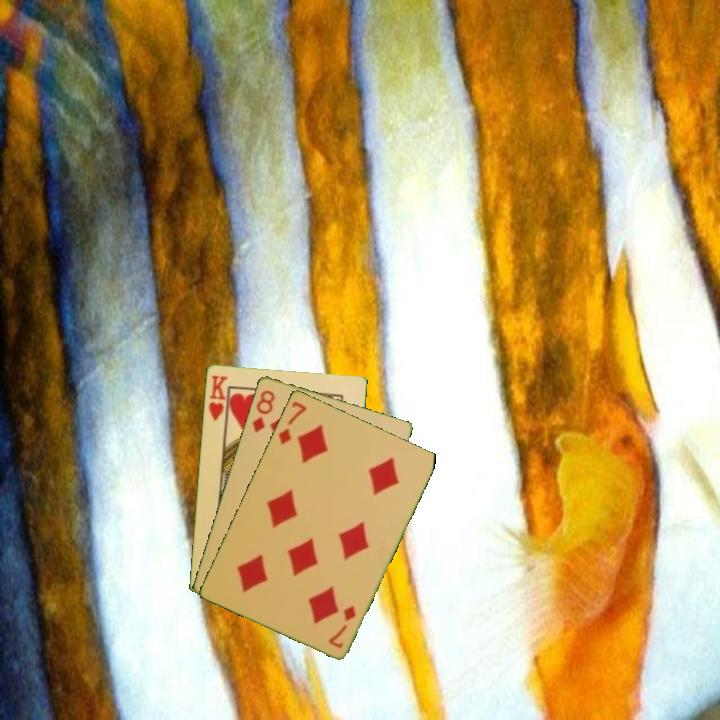7d: (275, 397, 309, 447), (325, 602, 359, 651)
8d: (248, 386, 277, 435)
Kh: (205, 371, 231, 427)
